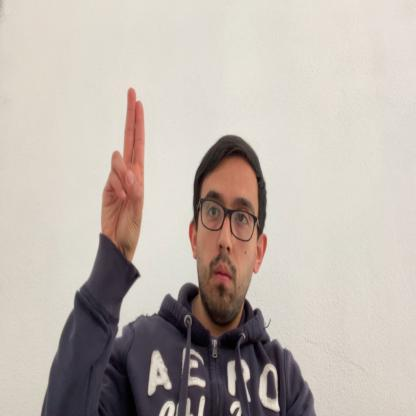U: (102, 87, 146, 272)
